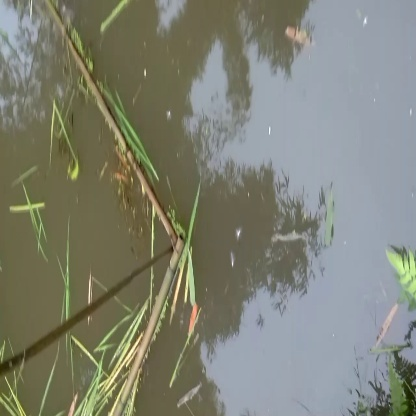branch: (48, 8, 182, 238)
